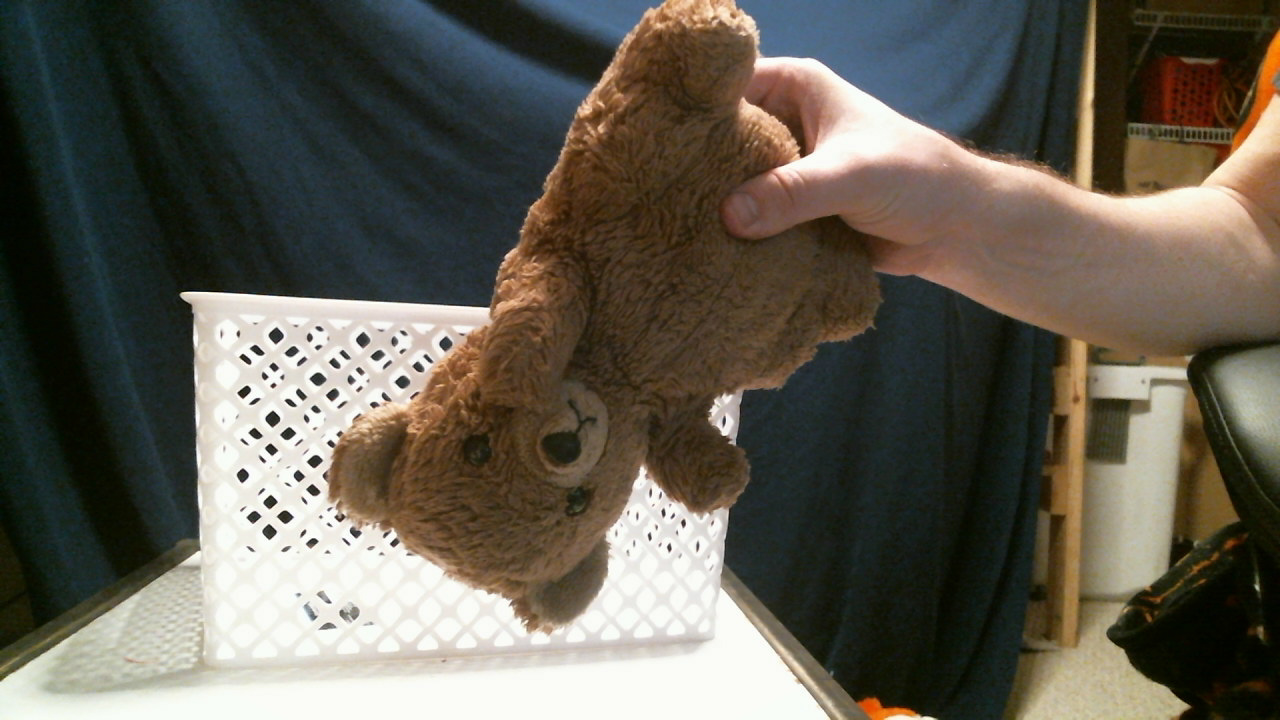Little_Mister_Bear: (458, 387, 612, 539)
